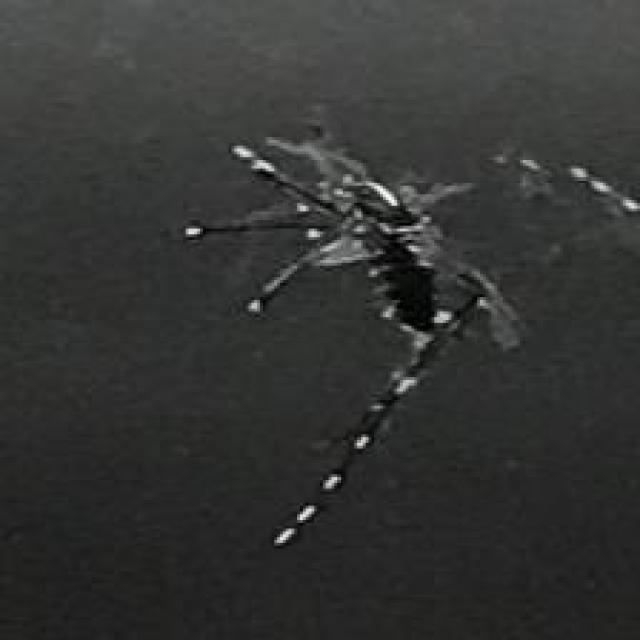Aedes albopictus: (177, 119, 640, 550)
